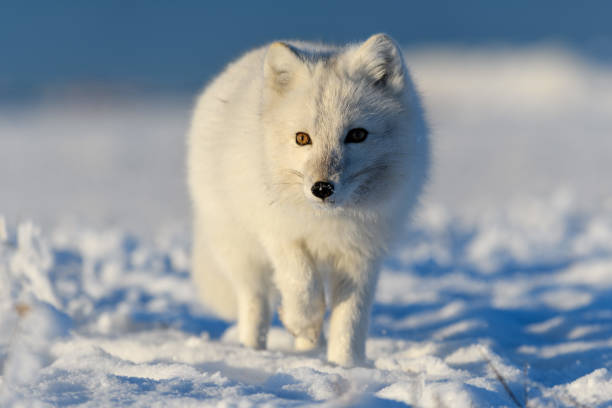arcticfox: (275, 76, 397, 223)
